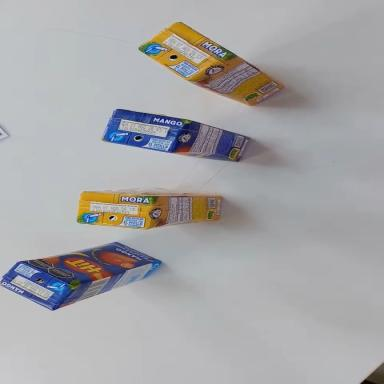HIT-MANGO: (0, 218, 165, 324), (102, 107, 251, 166)
HIT-MORA: (137, 11, 285, 125), (77, 190, 222, 232)
cara_F: (20, 223, 161, 300)
